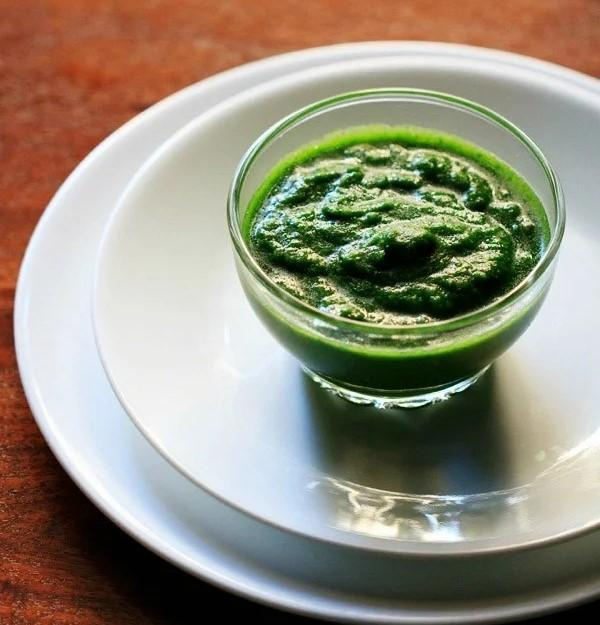GreenChutney: (247, 128, 547, 325)
